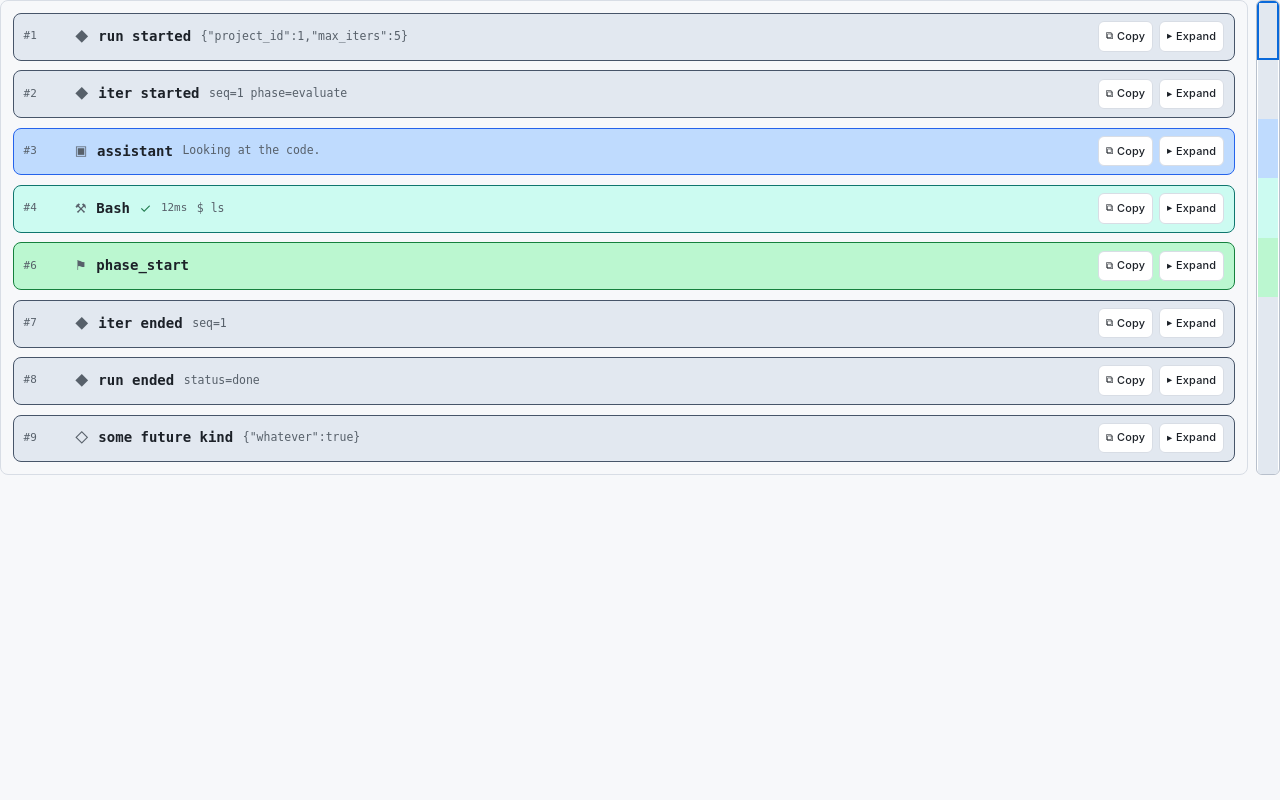
Test: TimelinePane › signal row has the distinctive card + a linkable anchor id
This screenshot has width=1280, height=800.
Click the button with test id "row-header-": [143, 265] box [14,243,1234,289]
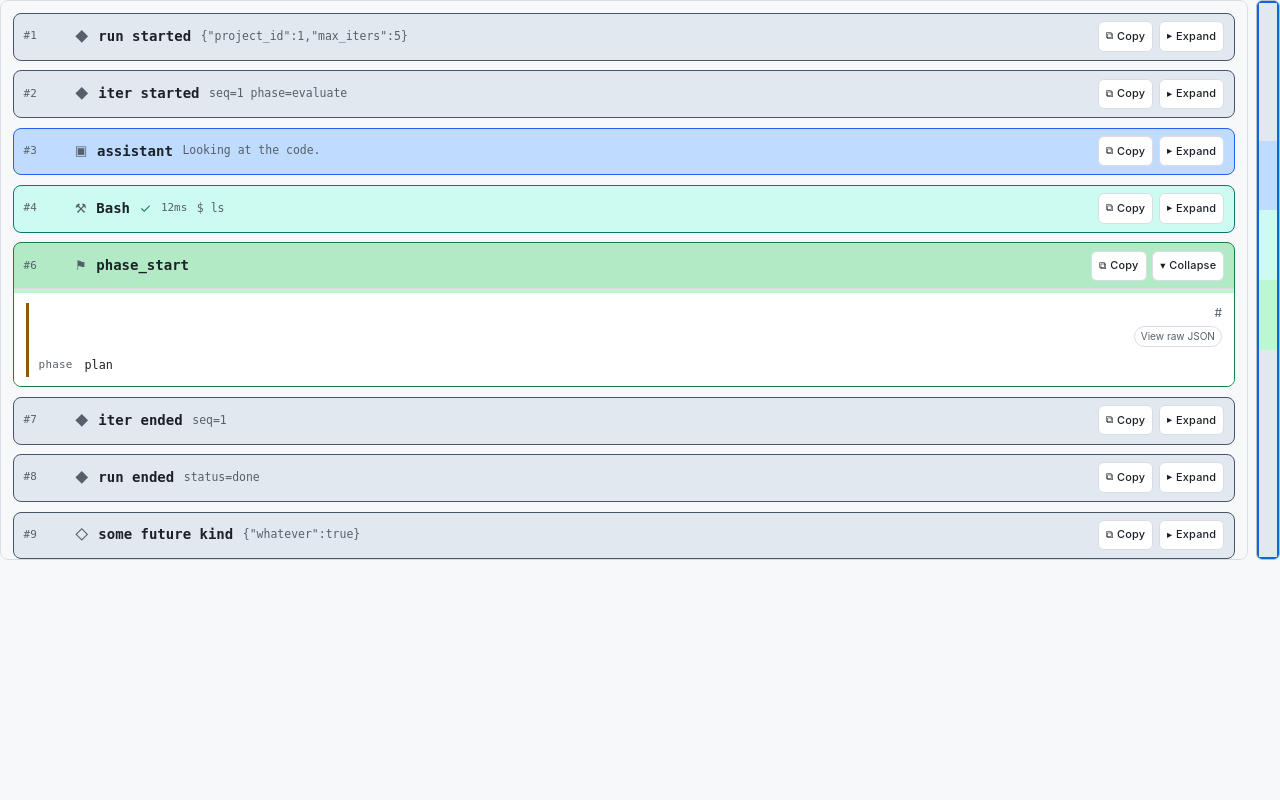
Now the element with test id "signal-card" is shown, box [26,303,1222,377]
